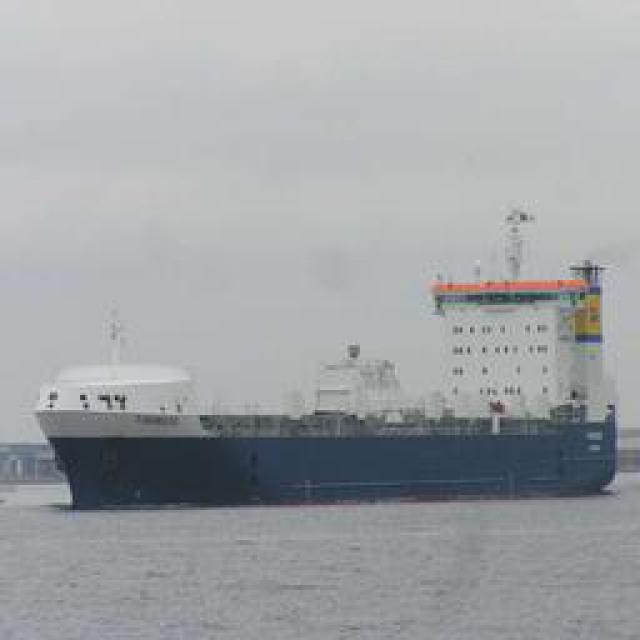Ship: (34, 320, 634, 513)
